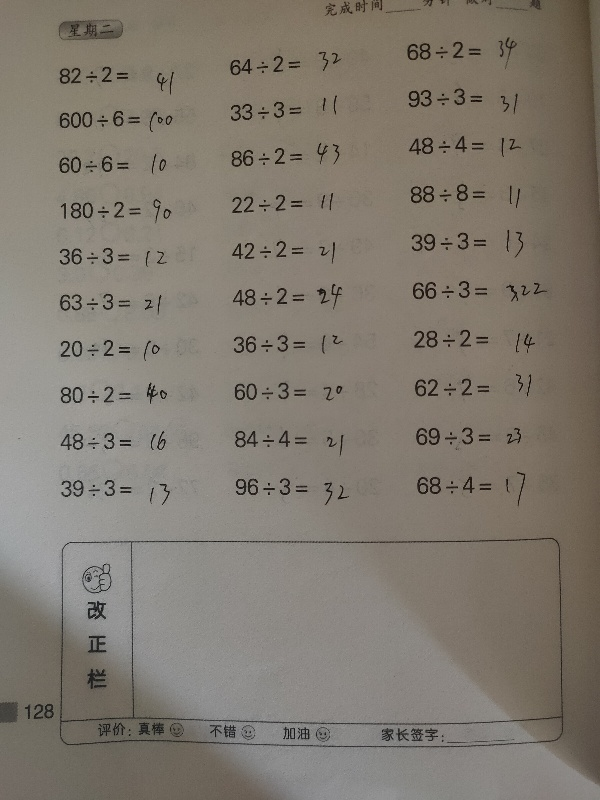equation: (403, 265, 565, 310), (57, 53, 189, 106), (403, 25, 548, 72), (221, 415, 361, 463), (215, 36, 367, 77), (397, 419, 544, 461), (214, 363, 355, 406), (220, 472, 367, 513), (397, 128, 555, 165), (49, 471, 191, 511), (220, 89, 364, 128), (222, 182, 354, 224), (403, 322, 545, 361), (412, 471, 542, 512), (224, 276, 363, 314), (50, 283, 185, 321), (51, 105, 189, 142), (400, 176, 540, 211), (405, 369, 541, 405), (58, 195, 201, 229), (222, 139, 371, 171), (404, 83, 548, 116), (58, 422, 183, 460), (231, 320, 354, 357), (49, 151, 187, 183), (224, 234, 353, 266), (50, 334, 177, 365), (409, 228, 536, 259), (58, 383, 180, 409), (55, 245, 176, 270)
